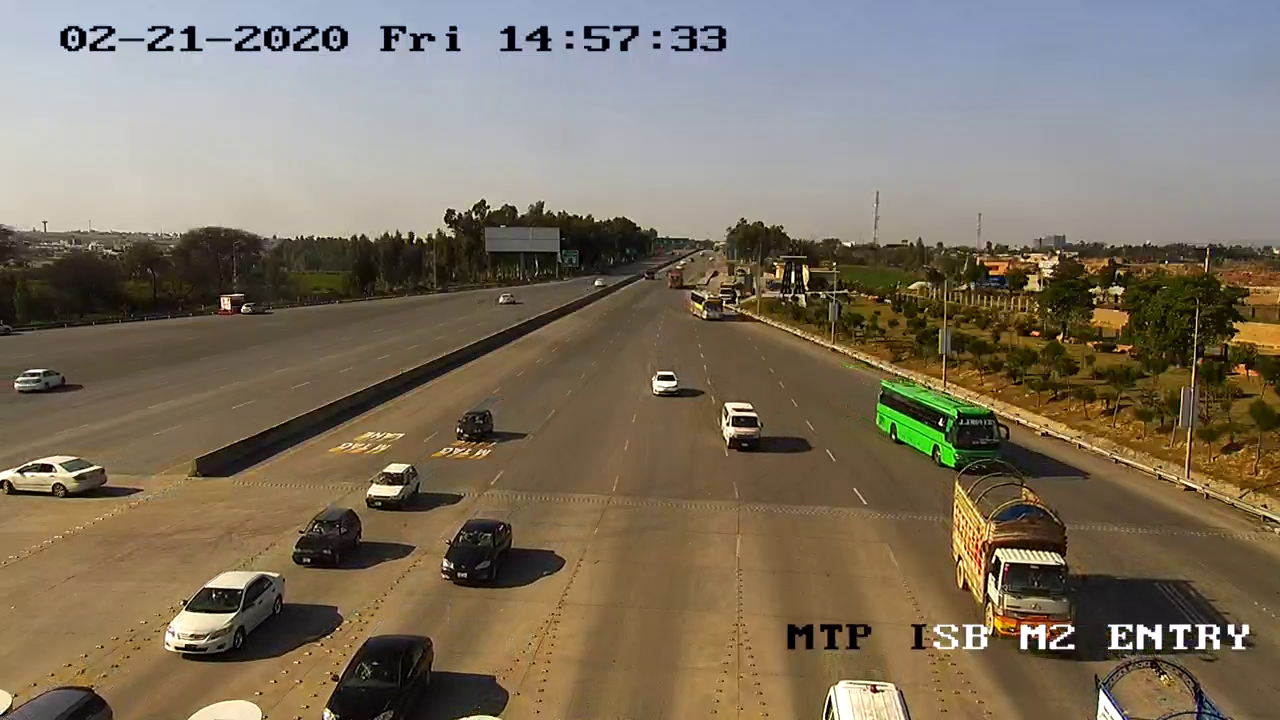f1: (154, 561, 291, 668), (314, 611, 446, 720), (434, 509, 520, 600), (289, 494, 369, 578), (355, 449, 428, 520), (445, 404, 505, 452)
f2: (711, 392, 775, 461)
f4: (863, 363, 1015, 481)
f5: (942, 463, 1085, 657)
